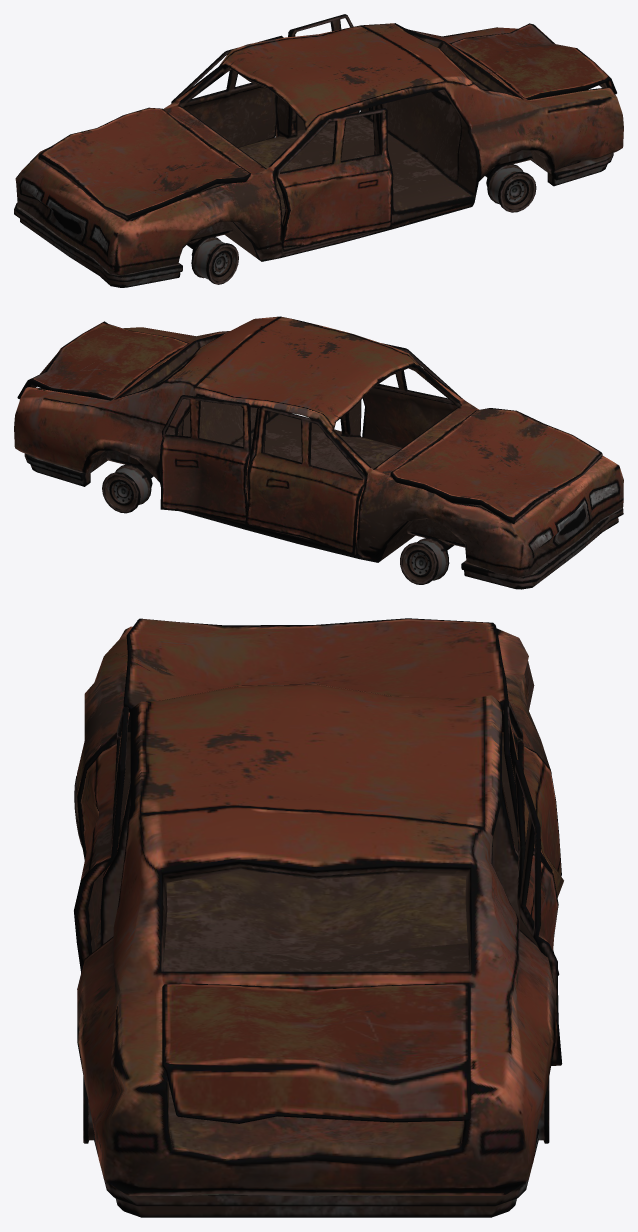
Rendered from junk_car_v2.fbx.
3 renders of one model, top to bottom at view 1: azimuth 30°, elevation 25°; view 2: azimuth 150°, elevation 25°; view 3: azimuth 270°, elevation 25°, orthographic. The views are drawn at different scales.
Visible parts, largest first — view 1: junk_car_v2_chasis, junk_car_v2_hood, junk_car_v2_door_01, junk_car_v2_trunk, junk_car_v2_door_02, junk_car_v2_bumper_01, junk_car_v2_tire_barrel_04, junk_car_v2_tire_barrel_03, junk_car_v2_bumper_02, junk_car_v2_underbelly, junk_car_v2_door_03; view 2: junk_car_v2_chasis, junk_car_v2_hood, junk_car_v2_door_02, junk_car_v2_door_03, junk_car_v2_trunk, junk_car_v2_door_01, junk_car_v2_bumper_01, junk_car_v2_tire_barrel_02, junk_car_v2_tire_barrel_01, junk_car_v2_underbelly, junk_car_v2_bumper_02; view 3: junk_car_v2_chasis, junk_car_v2_trunk, junk_car_v2_hood, junk_car_v2_bumper_02, junk_car_v2_door_01, junk_car_v2_door_03, junk_car_v2_door_02.
Boxes of the visible parts, x1,y1,x2,y2 form: junk_car_v2_chasis: (15,23,623,275); junk_car_v2_hood: (38,107,250,220); junk_car_v2_door_01: (276,108,393,247); junk_car_v2_trunk: (450,23,616,99); junk_car_v2_door_02: (171,35,283,147); junk_car_v2_bumper_01: (14,202,182,287); junk_car_v2_tire_barrel_04: (487,164,536,212); junk_car_v2_tire_barrel_03: (191,236,238,284); junk_car_v2_bumper_02: (547,153,613,186); junk_car_v2_underbelly: (188,150,532,243); junk_car_v2_door_03: (275,14,359,137); junk_car_v2_chasis: (14,316,623,577); junk_car_v2_hood: (390,408,602,523); junk_car_v2_door_02: (245,405,366,555); junk_car_v2_door_03: (160,395,251,522); junk_car_v2_trunk: (17,321,188,400); junk_car_v2_door_01: (362,343,460,447); junk_car_v2_bumper_01: (461,507,623,589); junk_car_v2_tire_barrel_02: (400,538,449,584); junk_car_v2_tire_barrel_01: (102,464,151,513); junk_car_v2_underbelly: (106,450,465,547); junk_car_v2_bumper_02: (24,453,90,486); junk_car_v2_chasis: (77,626,555,1196); junk_car_v2_trunk: (162,984,470,1123); junk_car_v2_hood: (123,618,508,712); junk_car_v2_bumper_02: (94,1129,538,1217); junk_car_v2_door_01: (74,706,128,972); junk_car_v2_door_03: (514,760,562,1065); junk_car_v2_door_02: (503,700,563,975).
Bounding box in the file's own units: 26.95 × 6.82 × 10.83.
1 material, 1 textured.
